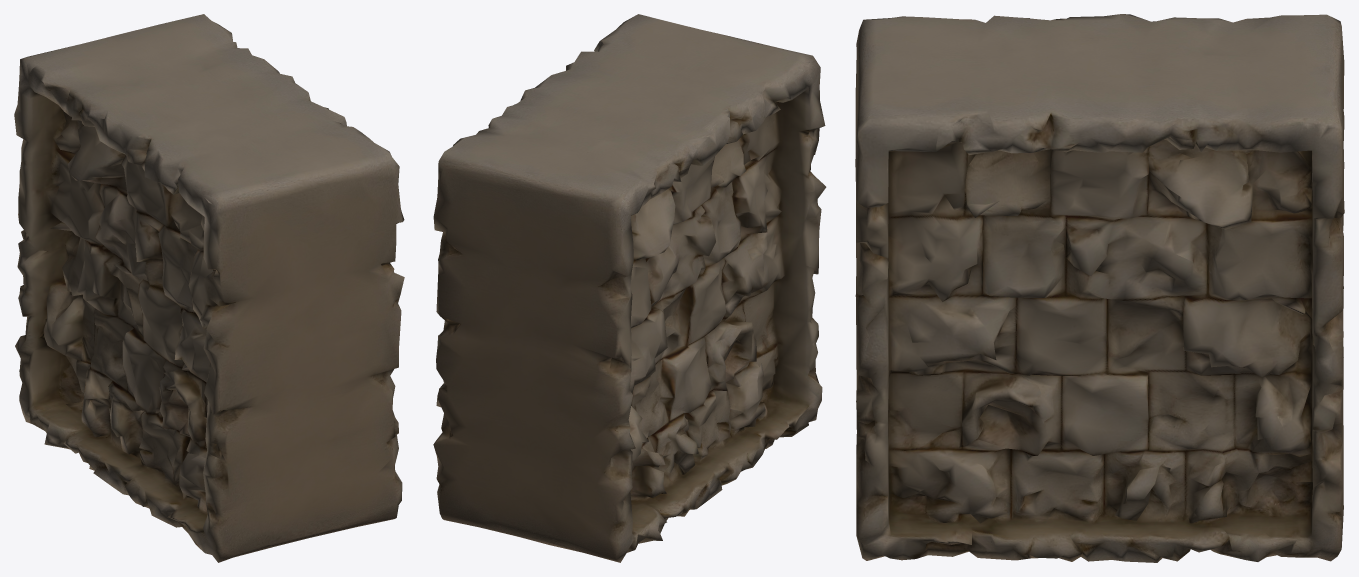
The model's file is wall_flat.glb.
3 views of the same model, side by side, from view 1: azimuth 30°, elevation 25°; view 2: azimuth 150°, elevation 25°; view 3: azimuth 270°, elevation 25° (orthographic). The views are drawn at different scales.
Parts seen in each view (by area): view 1: tripo_node_9c9acd30-b5b0-4ebd-b856-47ca5416fefd; view 2: tripo_node_9c9acd30-b5b0-4ebd-b856-47ca5416fefd; view 3: tripo_node_9c9acd30-b5b0-4ebd-b856-47ca5416fefd.
Boxes of the visible parts, x1,y1,x2,y2 form: tripo_node_9c9acd30-b5b0-4ebd-b856-47ca5416fefd: (14, 14, 404, 562); tripo_node_9c9acd30-b5b0-4ebd-b856-47ca5416fefd: (433, 14, 826, 562); tripo_node_9c9acd30-b5b0-4ebd-b856-47ca5416fefd: (855, 14, 1344, 562).
Bounding box in the file's own units: 0.565 × 1 × 0.9931.
1 material, 1 textured.
